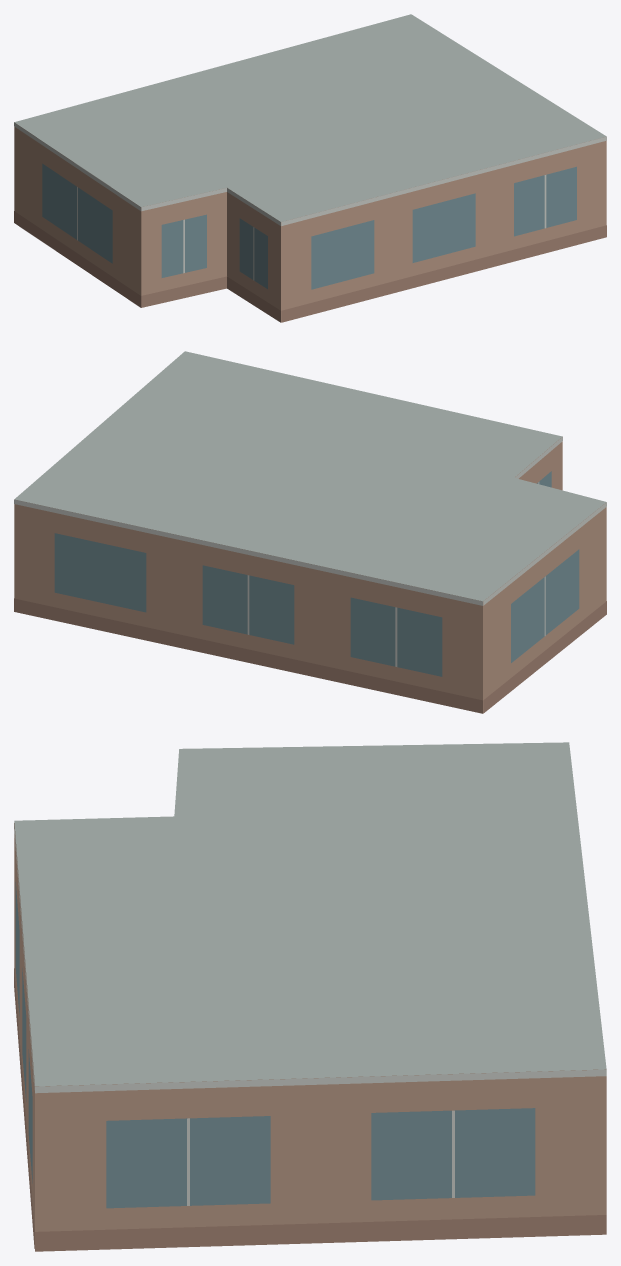
The model's file is survey-upis-32632427.glb.
3 views of the same model, one above another, from view 1: azimuth 30°, elevation 25°; view 2: azimuth 150°, elevation 25°; view 3: azimuth 270°, elevation 25° (orthographic). The views are drawn at different scales.
Visible parts, largest first — view 1: survey-upis-32632427.tmp; view 2: survey-upis-32632427.tmp; view 3: survey-upis-32632427.tmp.
Boxes of the visible parts, x1,y1,x2,y2 form: survey-upis-32632427.tmp: (14,14,606,322); survey-upis-32632427.tmp: (14,351,606,713); survey-upis-32632427.tmp: (14,742,606,1251).
Size of the model in its own units: 13.64 by 3.05 by 9.93.
